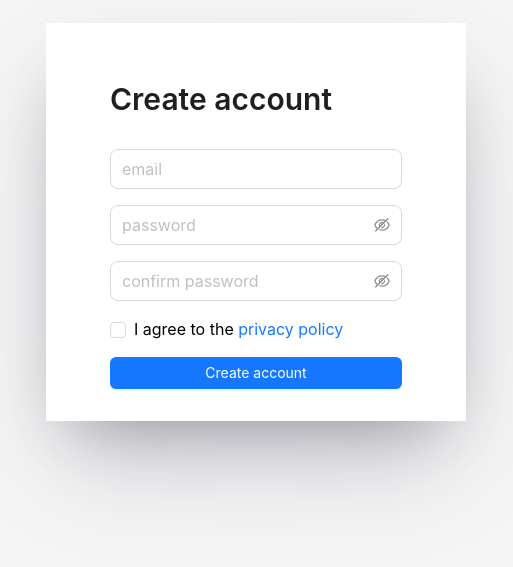
Scenario: Validation errors unit tests › Show validation error if the password and confirm password do not match
Expected: the text "Passwords must match" is not shown
Type "test123" into the password field with placeholder "password". click: (246,225)
box: [122,213,370,237]
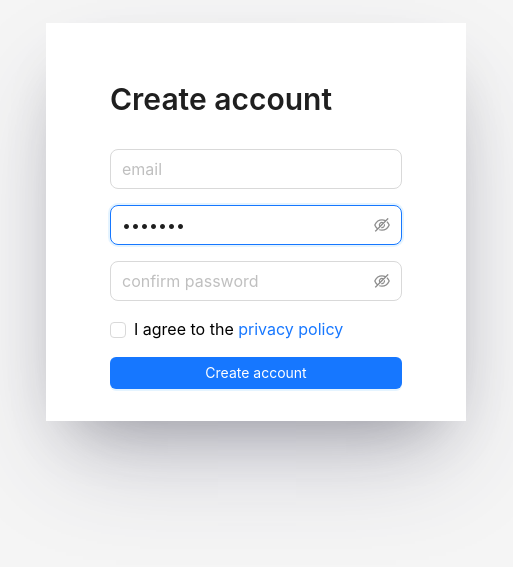
Type "test1234" into the password field with placeholder "confirm password". click: (246,281)
box: [122,269,370,293]
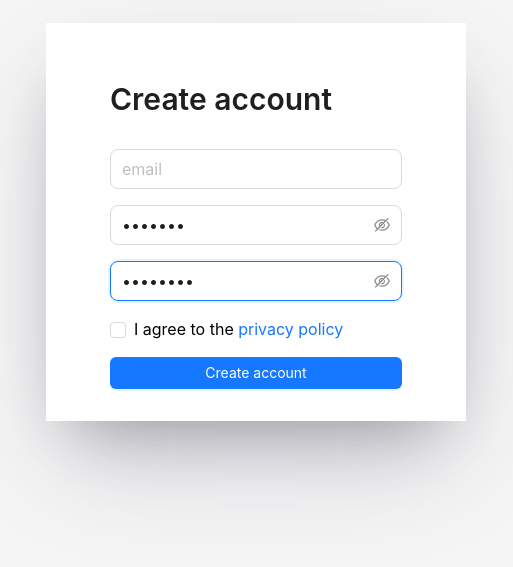
Click the button "Create account". click: (256,373)
box: [110,357,402,389]
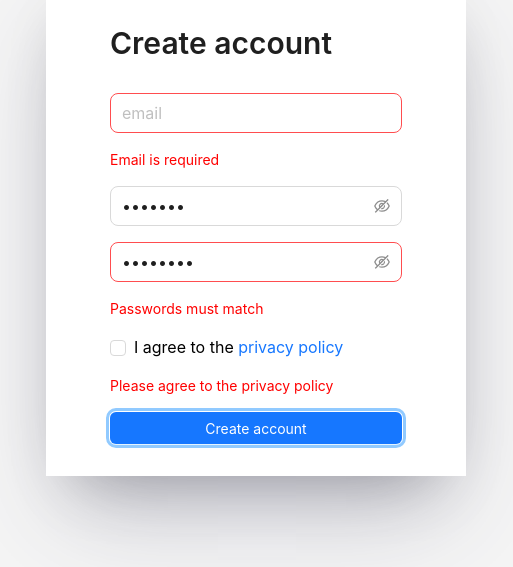
Result: the text "Passwords must match" is shown at [110,300,263,317]
